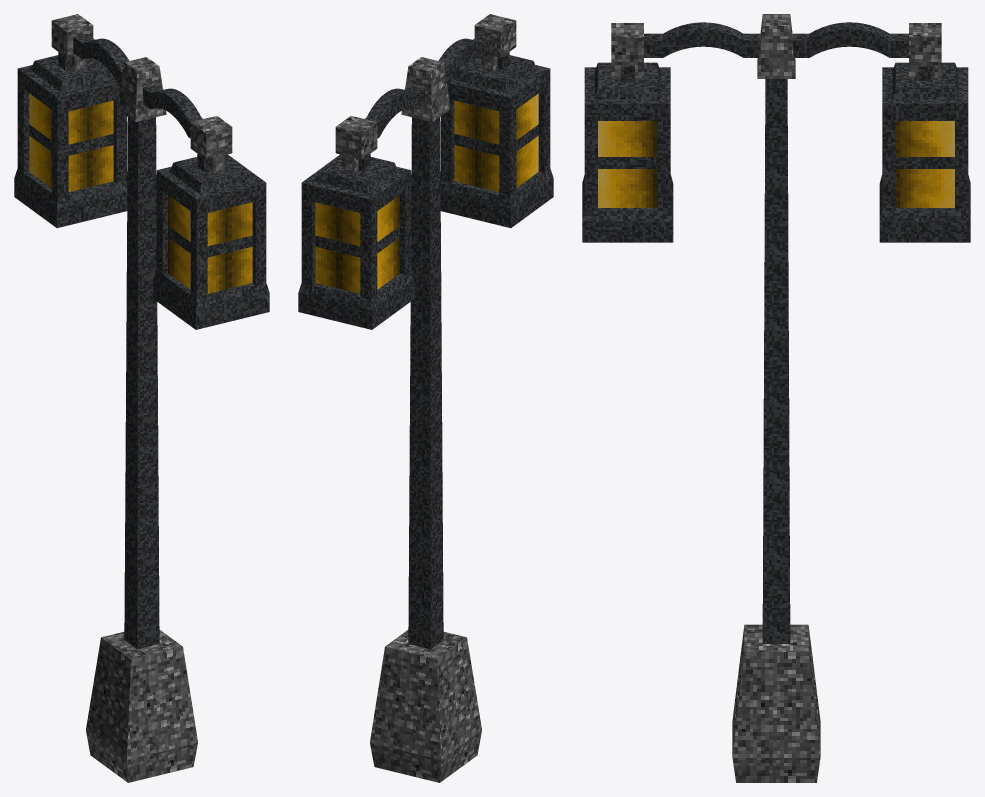
The model's file is lamppost.glb.
The picture shows the model from 3 angles, left to right: view 1: azimuth 30°, elevation 25°; view 2: azimuth 150°, elevation 25°; view 3: azimuth 270°, elevation 25°; orthographic projection. The views are drawn at different scales.
Parts seen in each view (by area): view 1: lightpostDouble; view 2: lightpostDouble; view 3: lightpostDouble.
Boxes of the visible parts, x1,y1,x2,y2 form: lightpostDouble: (14, 14, 269, 782); lightpostDouble: (298, 14, 553, 782); lightpostDouble: (582, 14, 970, 782).
Size of the model in its own units: 0.1459 by 1.32 by 0.6225.
3 materials, 3 textured.
